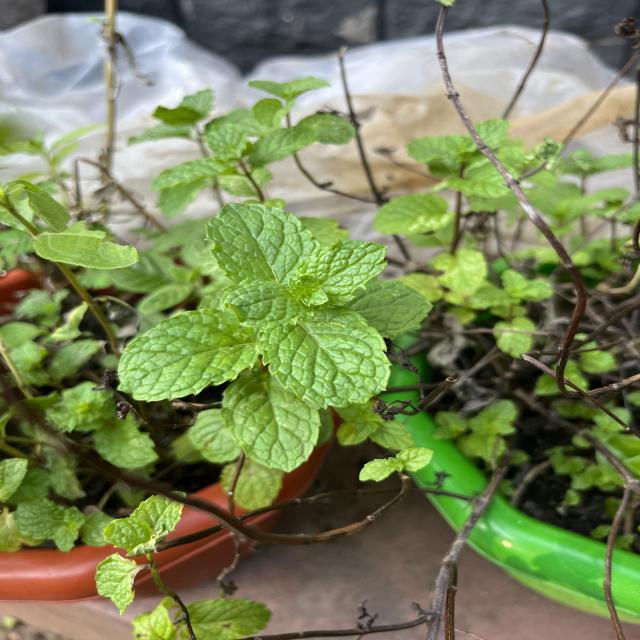Mentha spicata: (258, 304, 394, 410), (117, 307, 260, 404), (220, 371, 324, 474), (202, 200, 324, 284), (293, 238, 390, 310)
